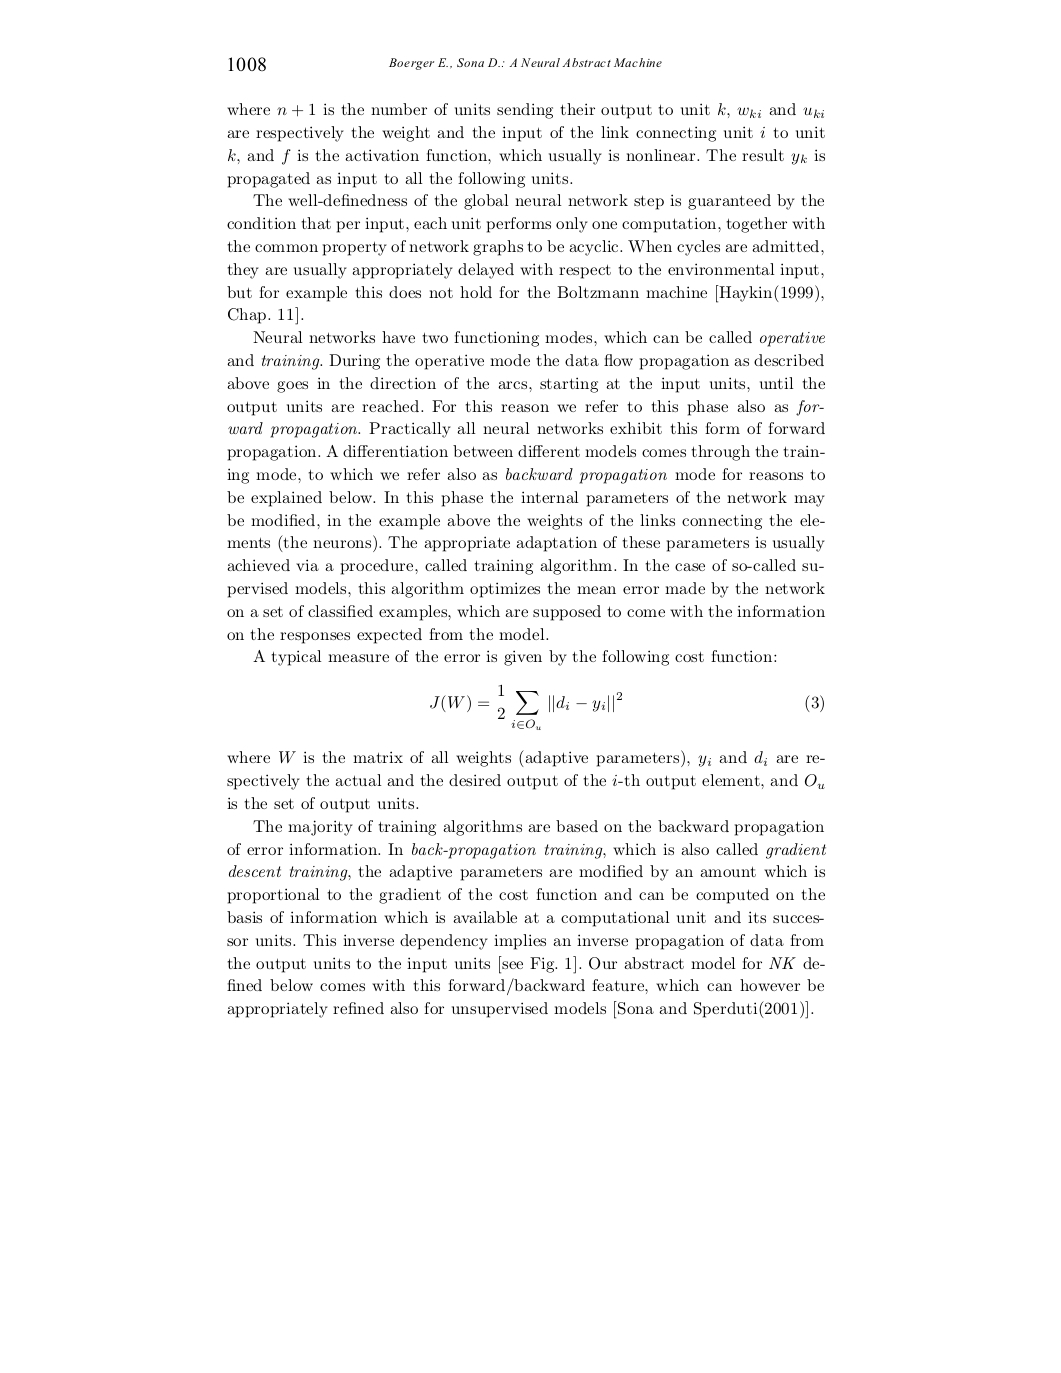formula: (430, 683, 822, 730)
